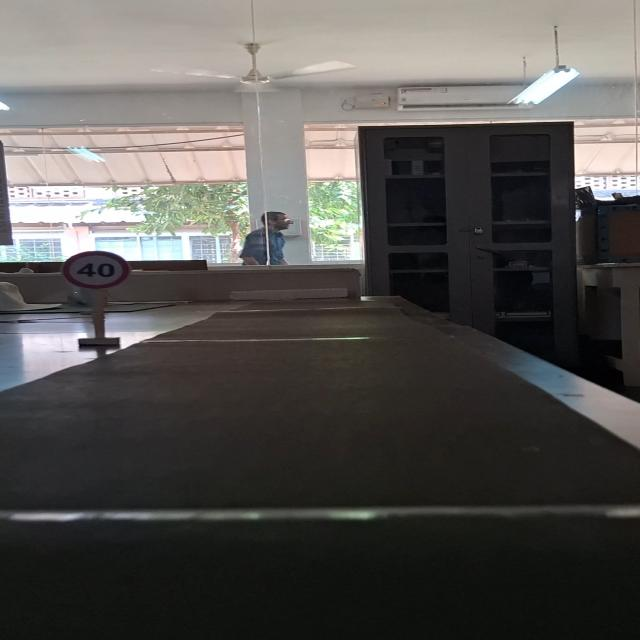Speed40: (58, 248, 133, 290)
